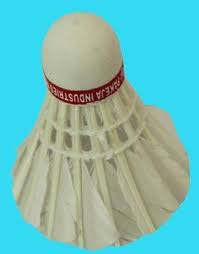shuttle: (20, 14, 190, 243)
